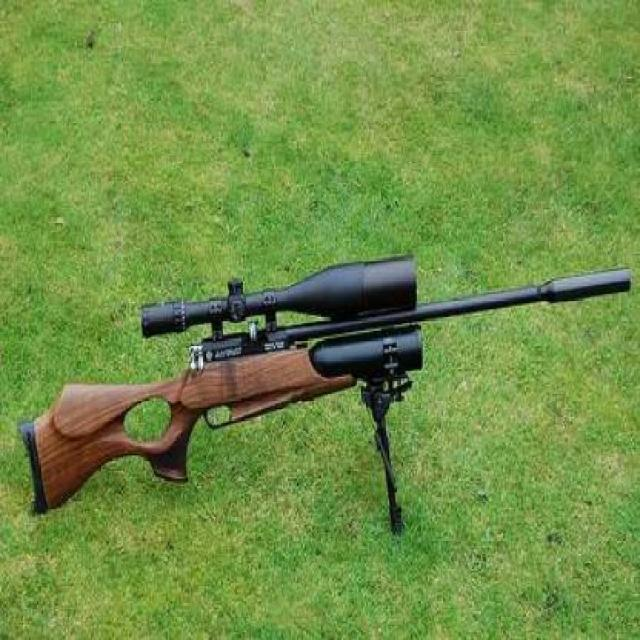weapon: (28, 253, 625, 508)
